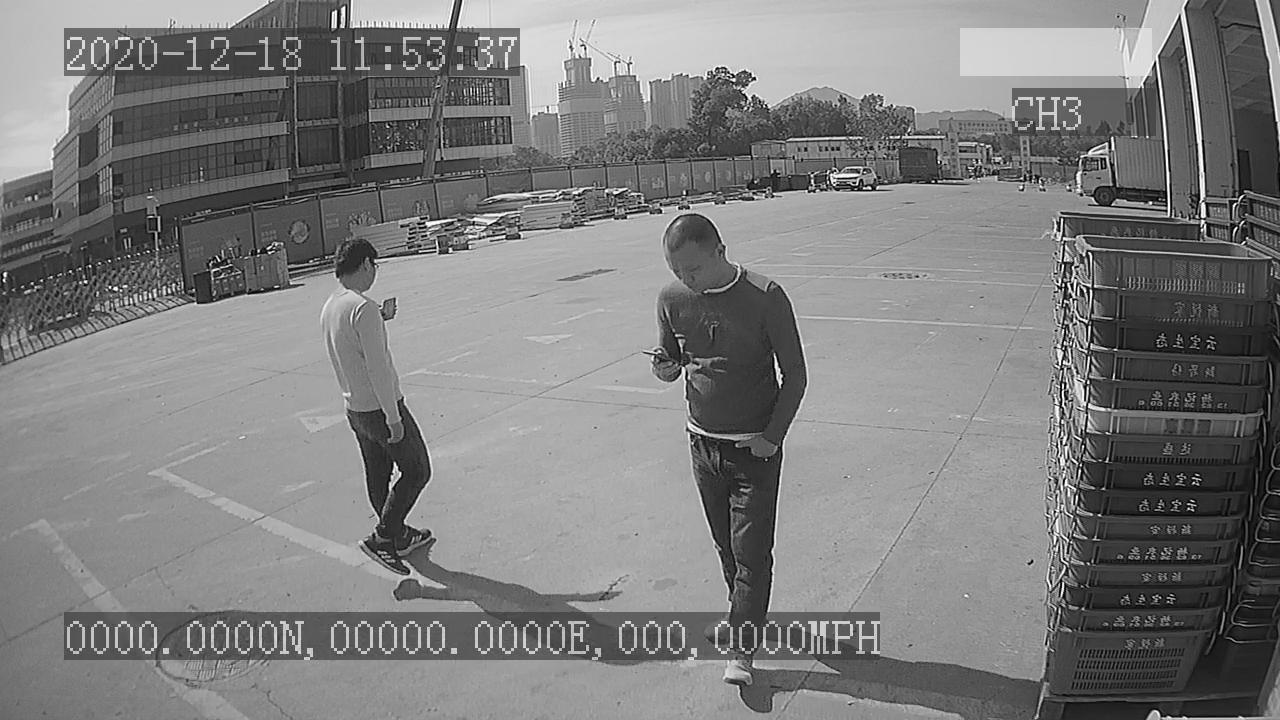person: (309, 231, 449, 585)
